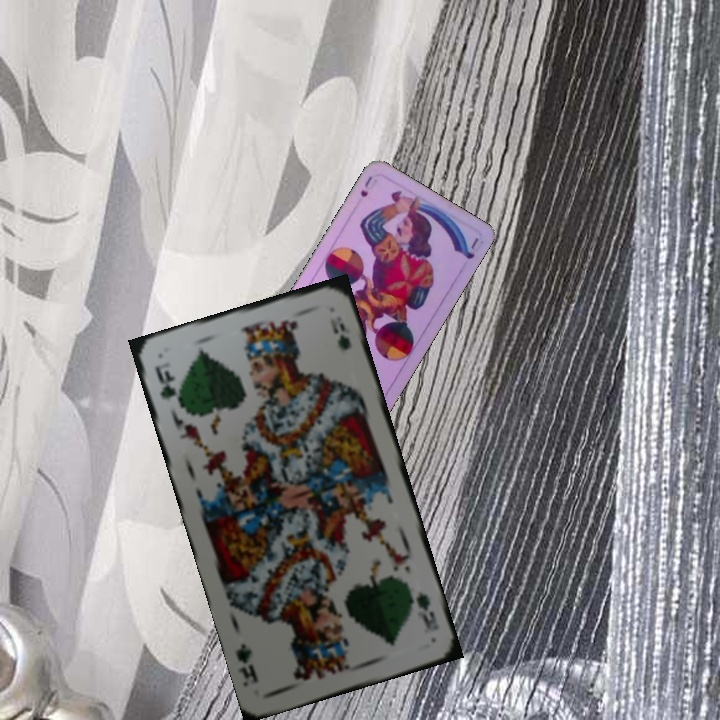GK: (405, 584, 442, 634), (151, 361, 184, 411)
SU: (356, 172, 375, 200)
